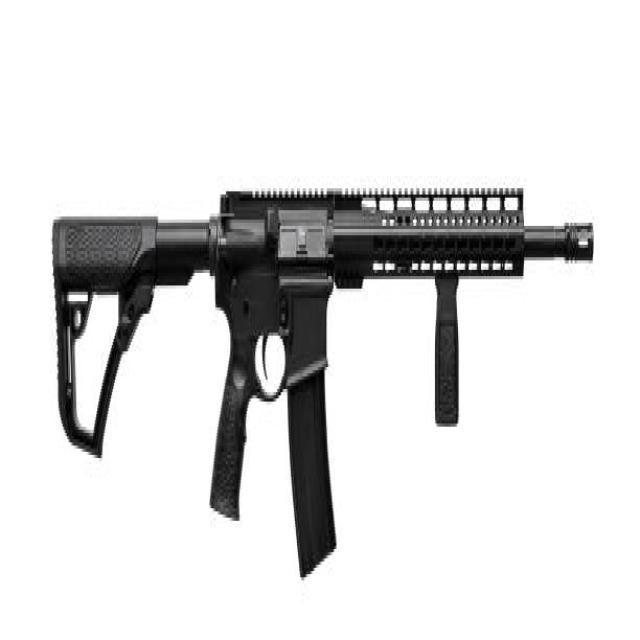rifle: (45, 178, 595, 601)
